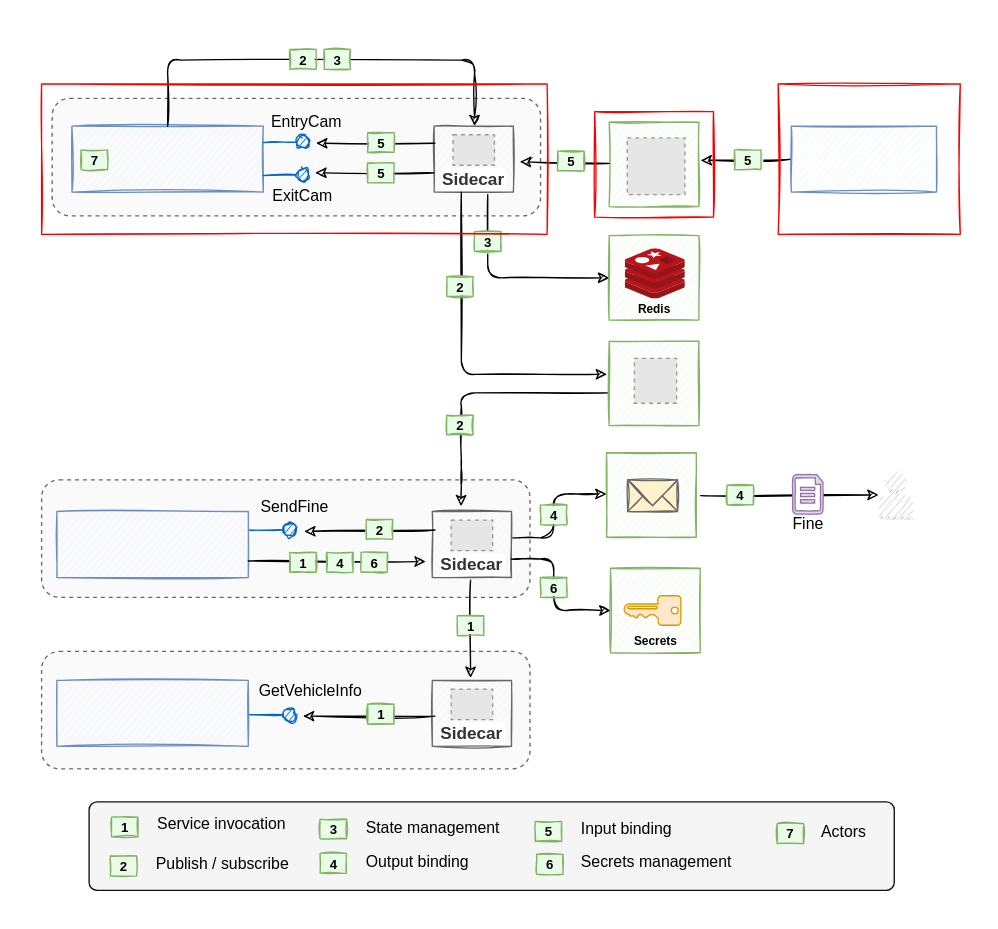
This 998x929 diagram has some shape labels left out. Grey dashed boxes stand in for pictures. Each missing label, with the box of its shape:
Camera Simulation: (790, 125, 937, 192)
FineCollection Service: (56, 510, 248, 578)
RabbitMQ: (608, 340, 699, 426)
SMTP: (605, 451, 696, 537)
TrafficControl Service: (71, 125, 263, 192)
VehicleRegistration Service: (56, 679, 248, 746)
